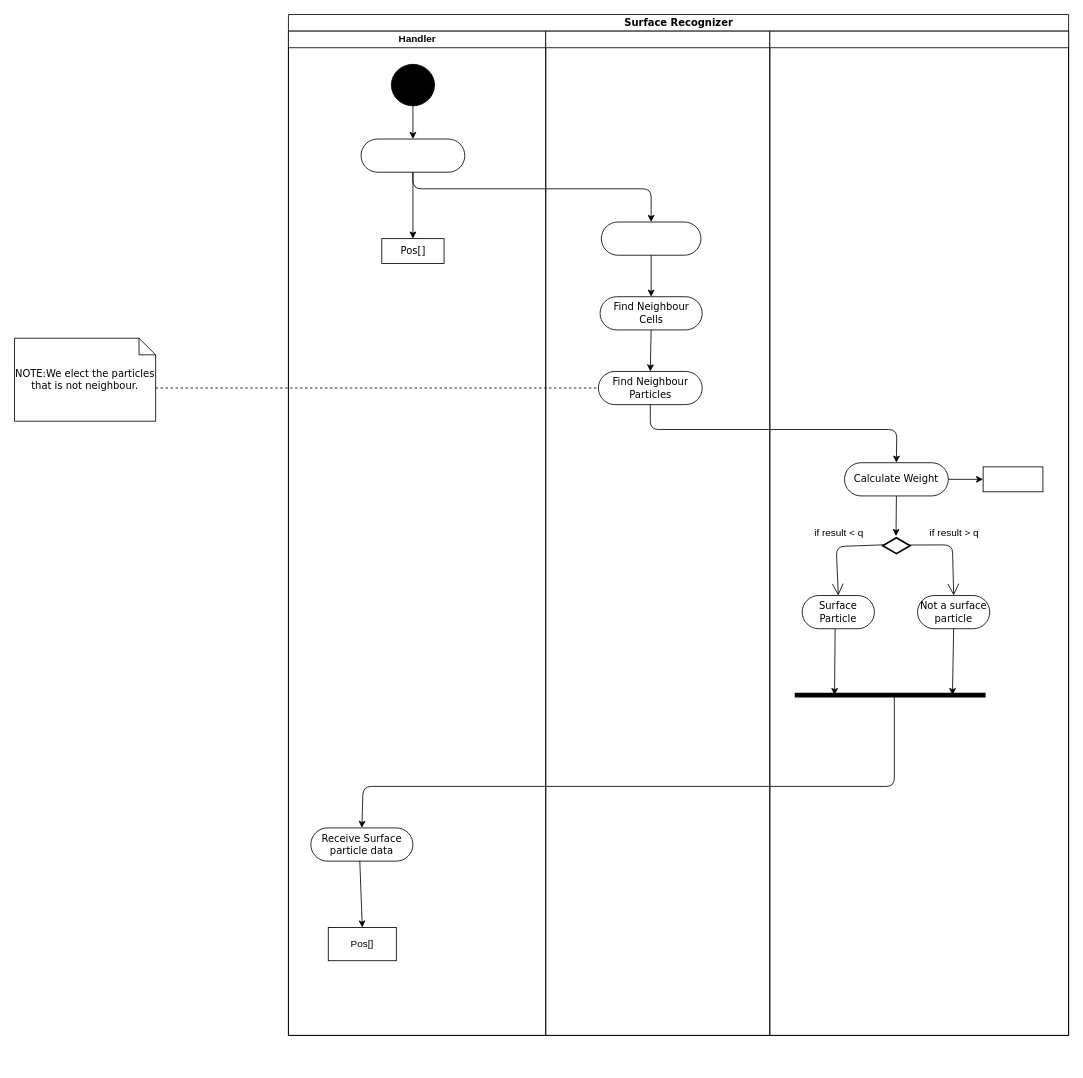
This 1083x1078 diagram has some shape labels left out. Each missing label, with the box of its shape:
Find Boundary: (601, 221, 701, 255)
FindCells: (545, 30, 770, 1035)
FindWeight: (769, 30, 1069, 1035)
Float: (982, 466, 1043, 492)
SendPos: (360, 138, 465, 172)
